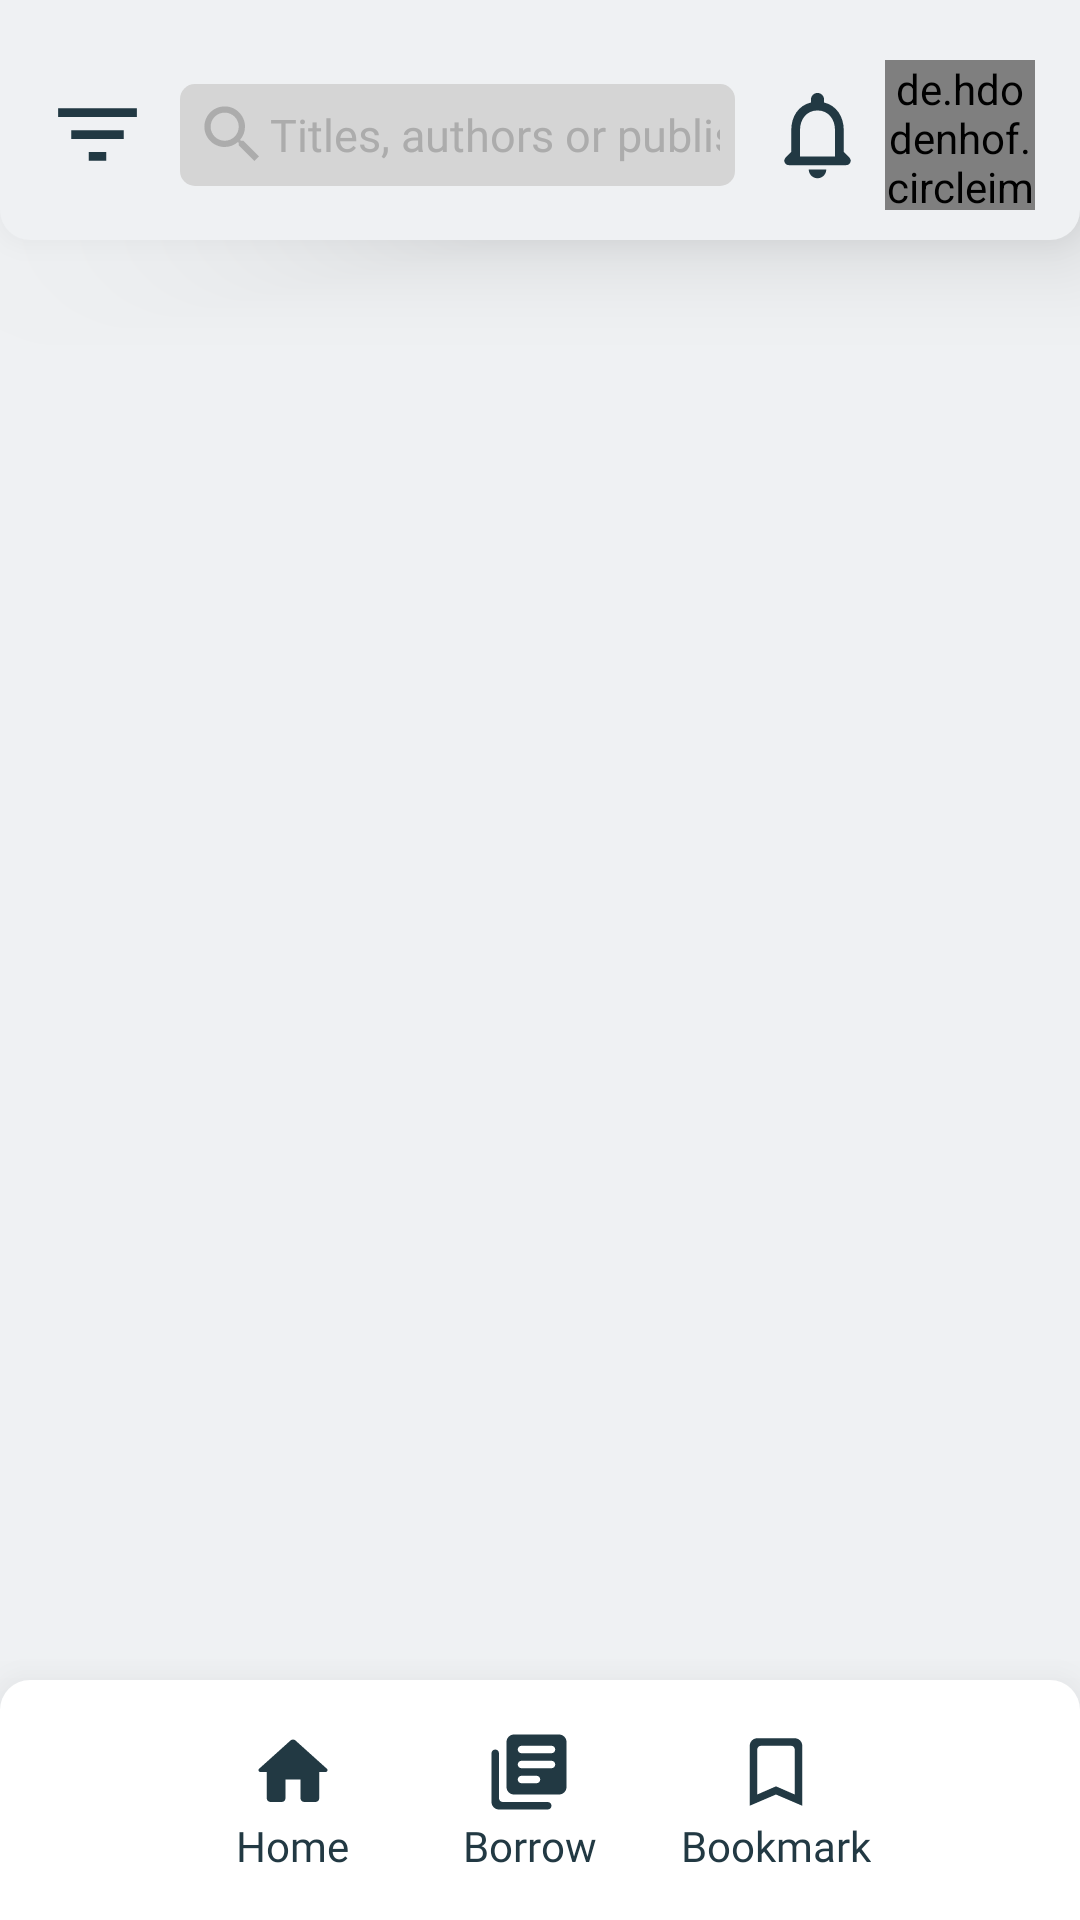

Screen size 1080x1920. Icon name, then its center in pixels as [x,y]:
filter list: [97,134]
library books: [529,1772]
notifications none: [817,136]
